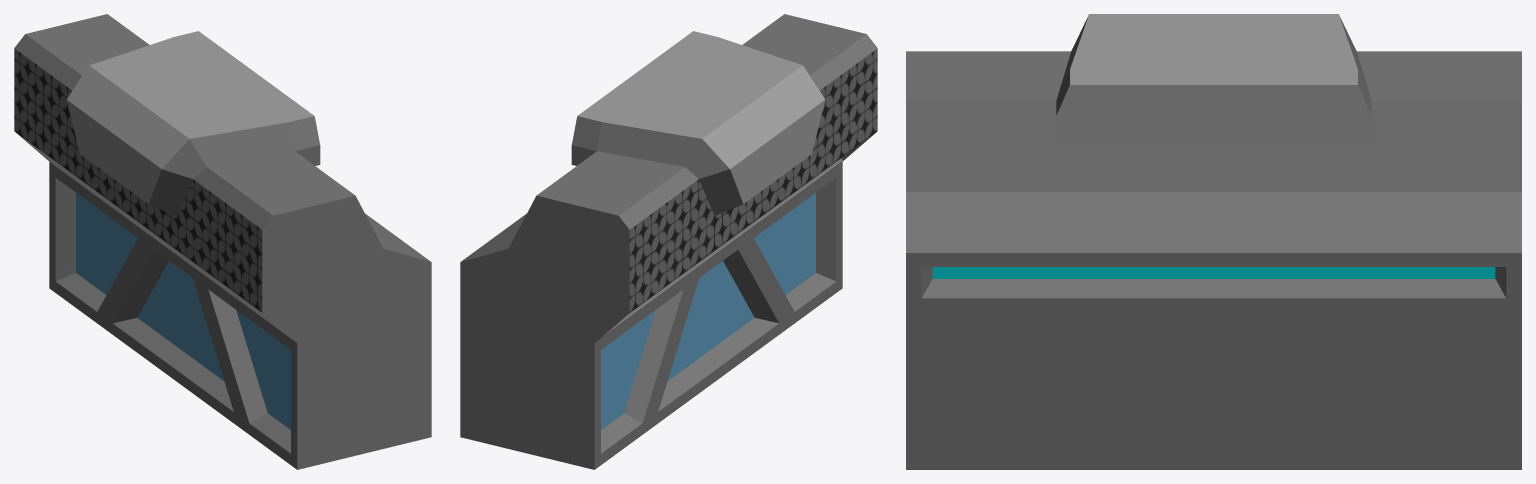
3 renders of one model, left to right at view 1: azimuth 30°, elevation 25°; view 2: azimuth 150°, elevation 25°; view 3: azimuth 270°, elevation 25°, orthographic. The views are drawn at different scales.
Parts seen in each view (by area): view 1: SM_B_Part8; view 2: SM_B_Part8; view 3: SM_B_Part8.
Part boxes in pixels (x1,y1,x2,y2): SM_B_Part8: (14, 14, 431, 469); SM_B_Part8: (460, 14, 877, 469); SM_B_Part8: (906, 14, 1521, 469).
Bounding box in the file's own units: 110 × 243 × 154.
